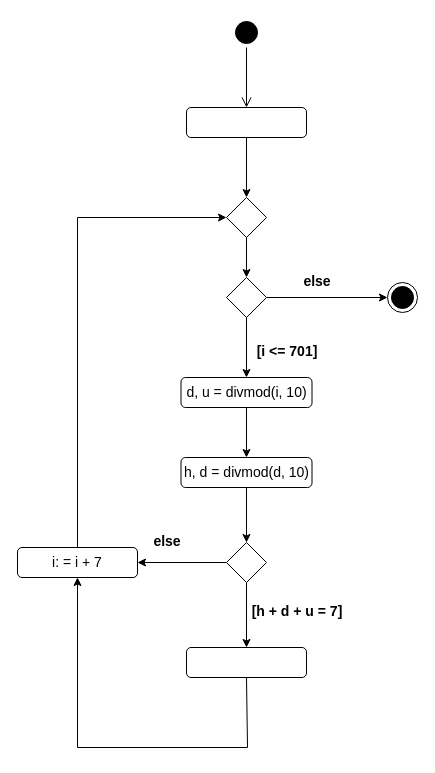
This 435x773 diagram has some shape labels left out. Here are the shapes that lost their labels. From the top down, the box of each, then its label:
(186, 106, 306, 138): i: = 105
(186, 646, 306, 678): Вывод i
